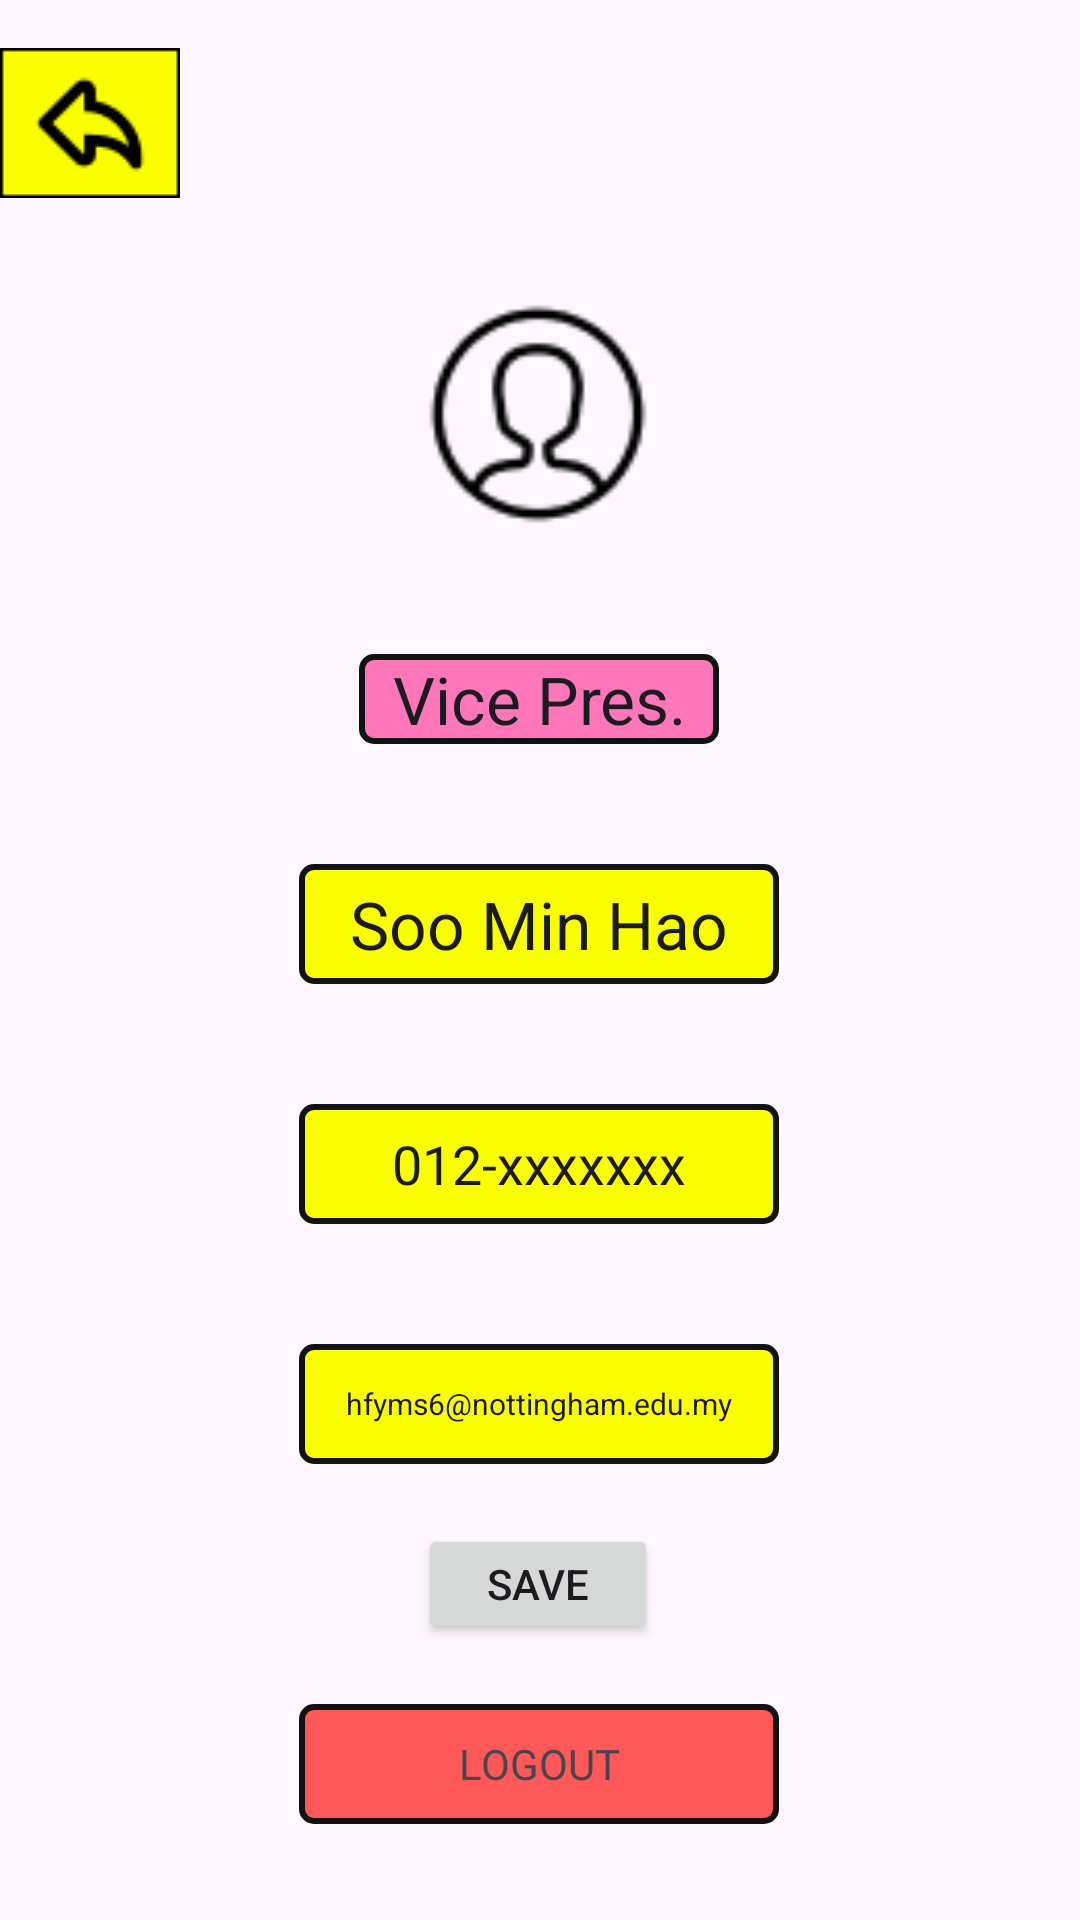

Where to tap for icons on this 1080w x 1920h app screen, as (x,y):
previous page: (90,123)
profile: (538,414)
